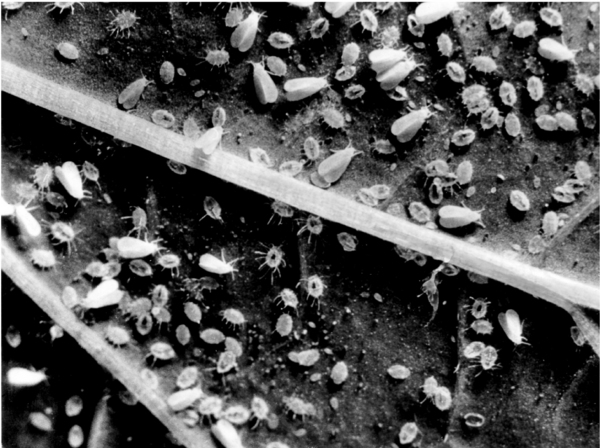whitefly: (391, 102, 433, 143), (318, 143, 357, 184), (376, 55, 421, 90), (231, 9, 265, 53), (80, 279, 123, 312), (248, 58, 277, 104), (11, 201, 42, 244), (117, 73, 153, 110), (200, 246, 238, 281), (54, 160, 86, 201), (167, 378, 205, 412), (283, 74, 329, 101), (439, 202, 485, 228), (499, 308, 529, 345), (371, 46, 409, 74), (539, 35, 577, 62), (5, 366, 49, 389), (118, 236, 159, 259), (199, 123, 228, 155)
